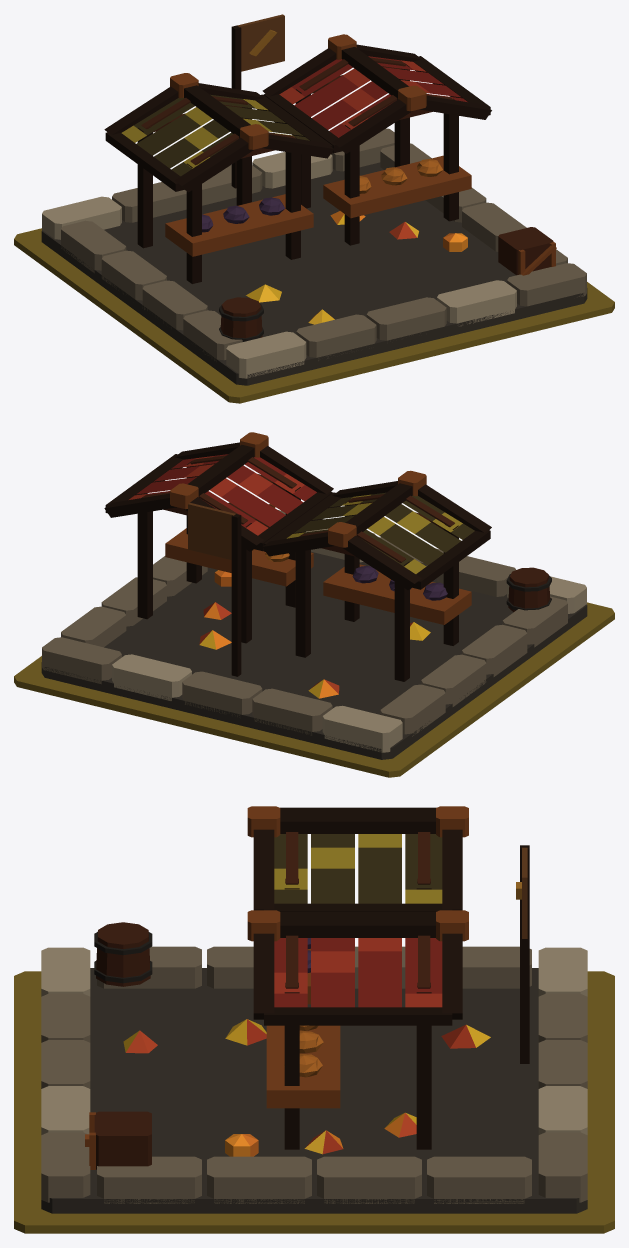
Rendered from market_t6.glb.
3 views of the same model, one above another, from view 1: azimuth 30°, elevation 25°; view 2: azimuth 150°, elevation 25°; view 3: azimuth 270°, elevation 25° (orthographic). The views are drawn at different scales.
Visible parts, largest first — view 1: MMR | market | T06 Architecture.001, MMR | market | Tier 06 Ground.001, MMR | market | T06 Banner Flag 1.001, MMR | market | T06 Autumn Dressing.001; view 2: MMR | market | T06 Architecture.001, MMR | market | Tier 06 Ground.001, MMR | market | T06 Banner Flag 1.001, MMR | market | T06 Autumn Dressing.001; view 3: MMR | market | T06 Architecture.001, MMR | market | Tier 06 Ground.001, MMR | market | T06 Autumn Dressing.001.
Boxes of the visible parts, x1,y1,x2,y2 form: MMR | market | T06 Architecture.001: (41,25,587,385); MMR | market | Tier 06 Ground.001: (14,228,614,403); MMR | market | T06 Banner Flag 1.001: (237,14,284,71); MMR | market | T06 Autumn Dressing.001: (246,211,467,324); MMR | market | T06 Architecture.001: (41,432,587,759); MMR | market | Tier 06 Ground.001: (14,602,614,777); MMR | market | T06 Banner Flag 1.001: (188,503,235,559); MMR | market | T06 Autumn Dressing.001: (199,570,430,698); MMR | market | T06 Architecture.001: (41,806,587,1213); MMR | market | Tier 06 Ground.001: (14,971,614,1233); MMR | market | T06 Autumn Dressing.001: (123,1019,490,1156).
Bounding box in the file's own units: 3.3 × 1.57 × 3.3.
1 material, 1 textured.
